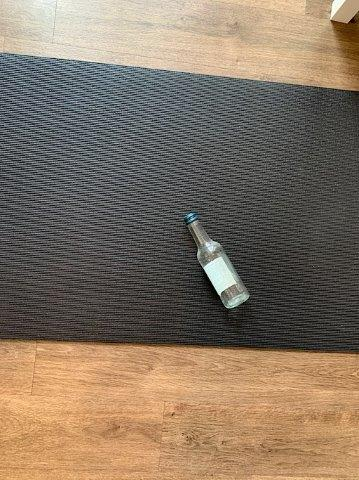botolkaca: (186, 214, 250, 308)
